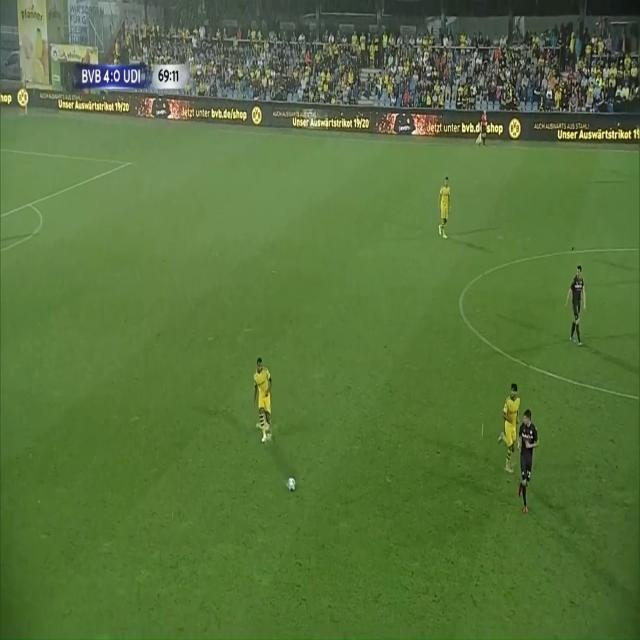ball: (285, 472, 297, 494)
player: (245, 340, 284, 447), (491, 384, 522, 483), (566, 266, 594, 348), (519, 409, 537, 518), (435, 155, 457, 242)
